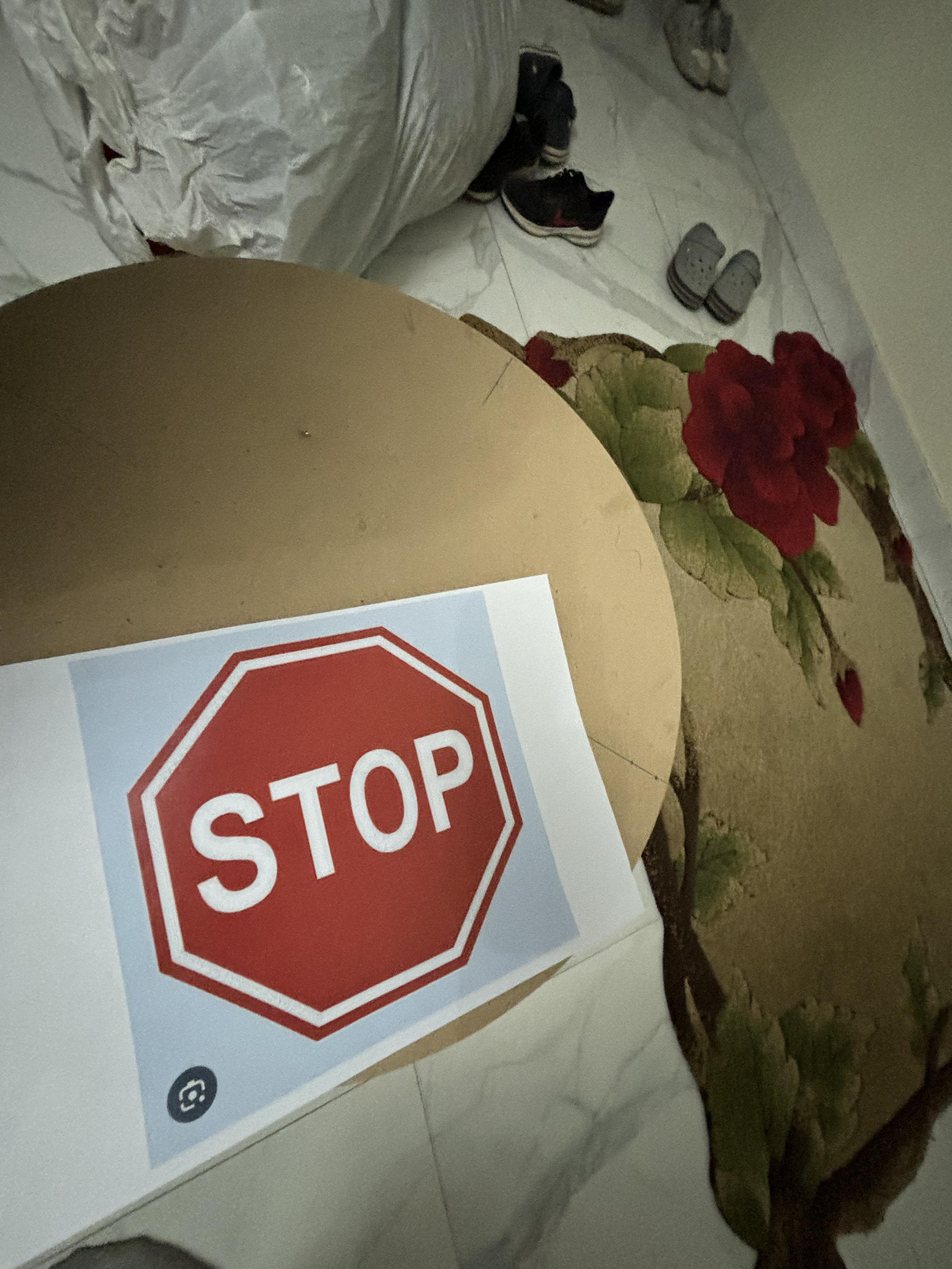Stop: (117, 624, 538, 1047)
